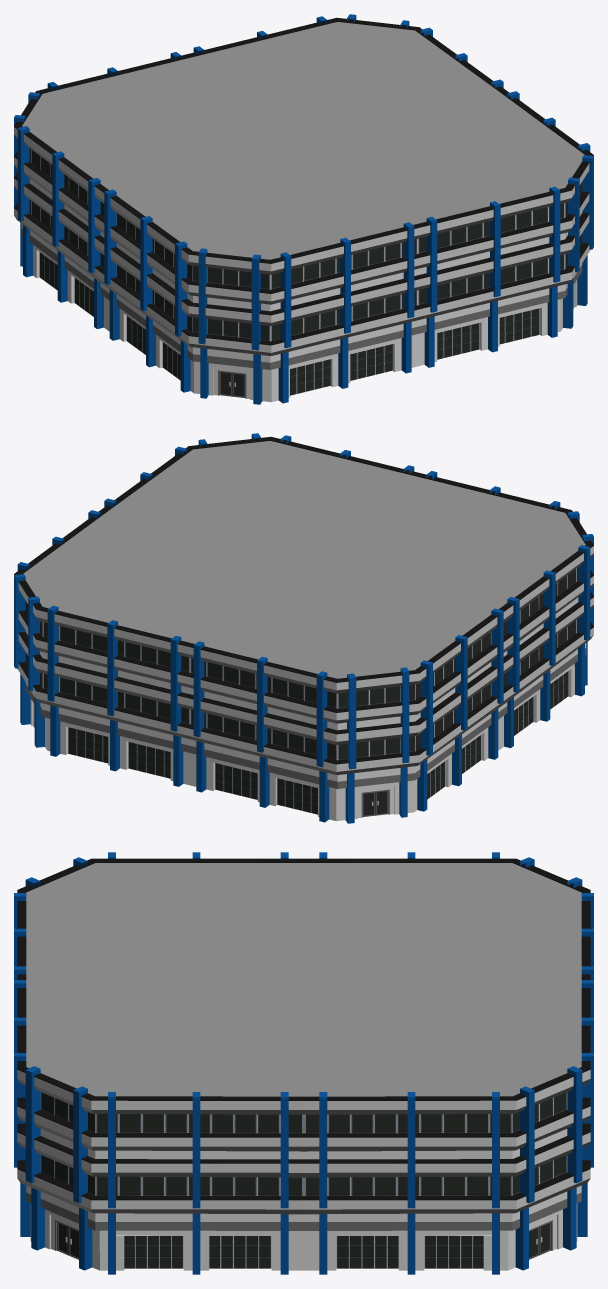
The picture shows the model from 3 angles, top to bottom: view 1: azimuth 30°, elevation 25°; view 2: azimuth 150°, elevation 25°; view 3: azimuth 270°, elevation 25°; orthographic projection. The views are drawn at different scales.
Visible parts, largest first — view 1: QD-02; view 2: QD-02; view 3: QD-02.
Part boxes in pixels (<box>): QD-02: <box>14,14,593,404</box>; QD-02: <box>14,433,593,823</box>; QD-02: <box>14,852,593,1274</box>.
Size of what is drawn, in the model's own units: 41.38 by 14.22 by 41.39.
